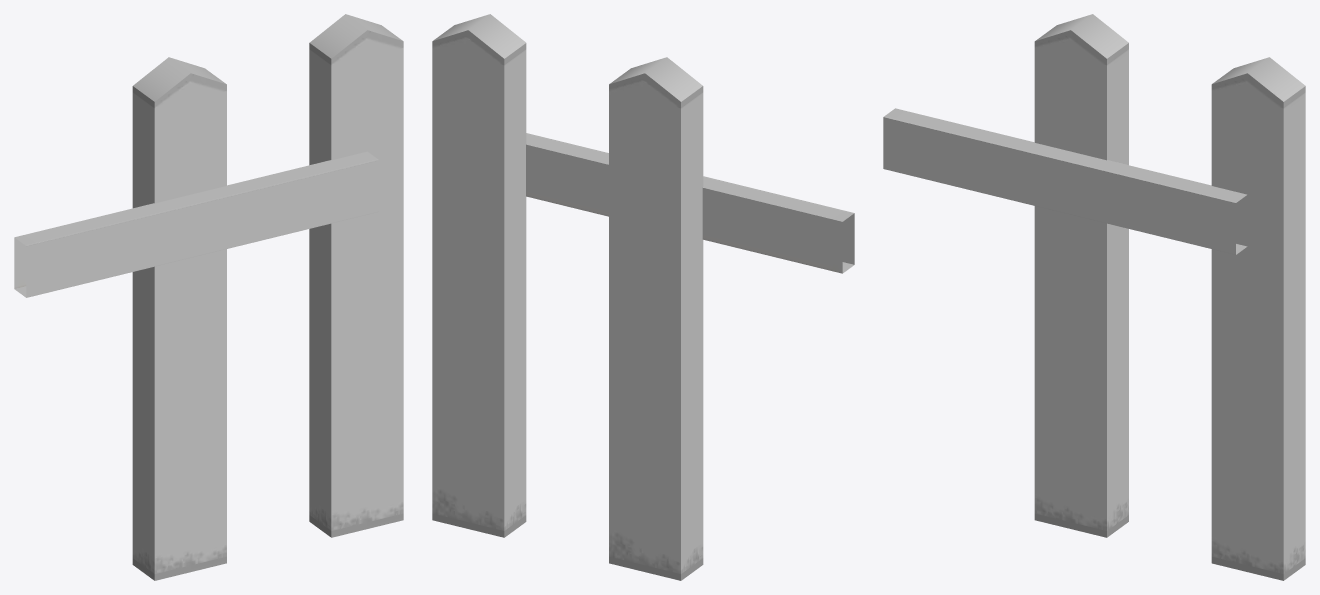
The model's file is city_white_picket_fence_03.glb.
3 renders of one model, left to right at view 1: azimuth 30°, elevation 25°; view 2: azimuth 150°, elevation 25°; view 3: azimuth 330°, elevation 25°, orthographic.
Parts seen in each view (by area): view 1: polySurface216; view 2: polySurface216; view 3: polySurface216.
Boxes of the visible parts, x1,y1,x2,y2 form: polySurface216: (14, 14, 403, 580); polySurface216: (432, 14, 854, 580); polySurface216: (883, 14, 1305, 580).
Size of the model in its own units: 0.7716 by 0.9462 by 0.1155.
Materials: 1 (1 with a texture image).
